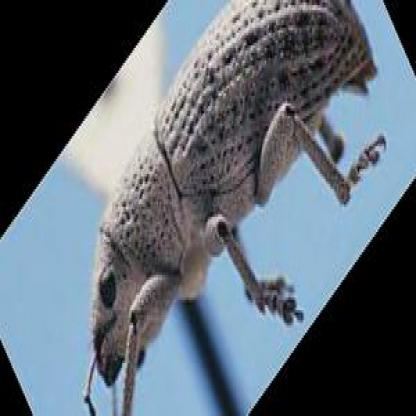ash weevil: (81, 0, 386, 403)
